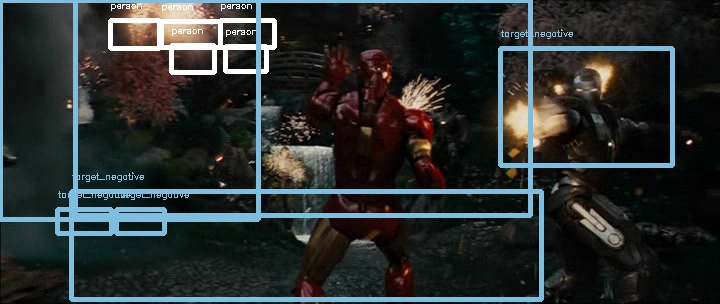person: (351, 41, 393, 86), (350, 41, 392, 86), (352, 41, 394, 86), (351, 40, 393, 85), (351, 42, 393, 87)
target_negative: (279, 159, 567, 285), (402, 190, 717, 304), (354, 110, 682, 216), (43, 217, 245, 237), (664, 62, 695, 161), (167, 197, 196, 215)
